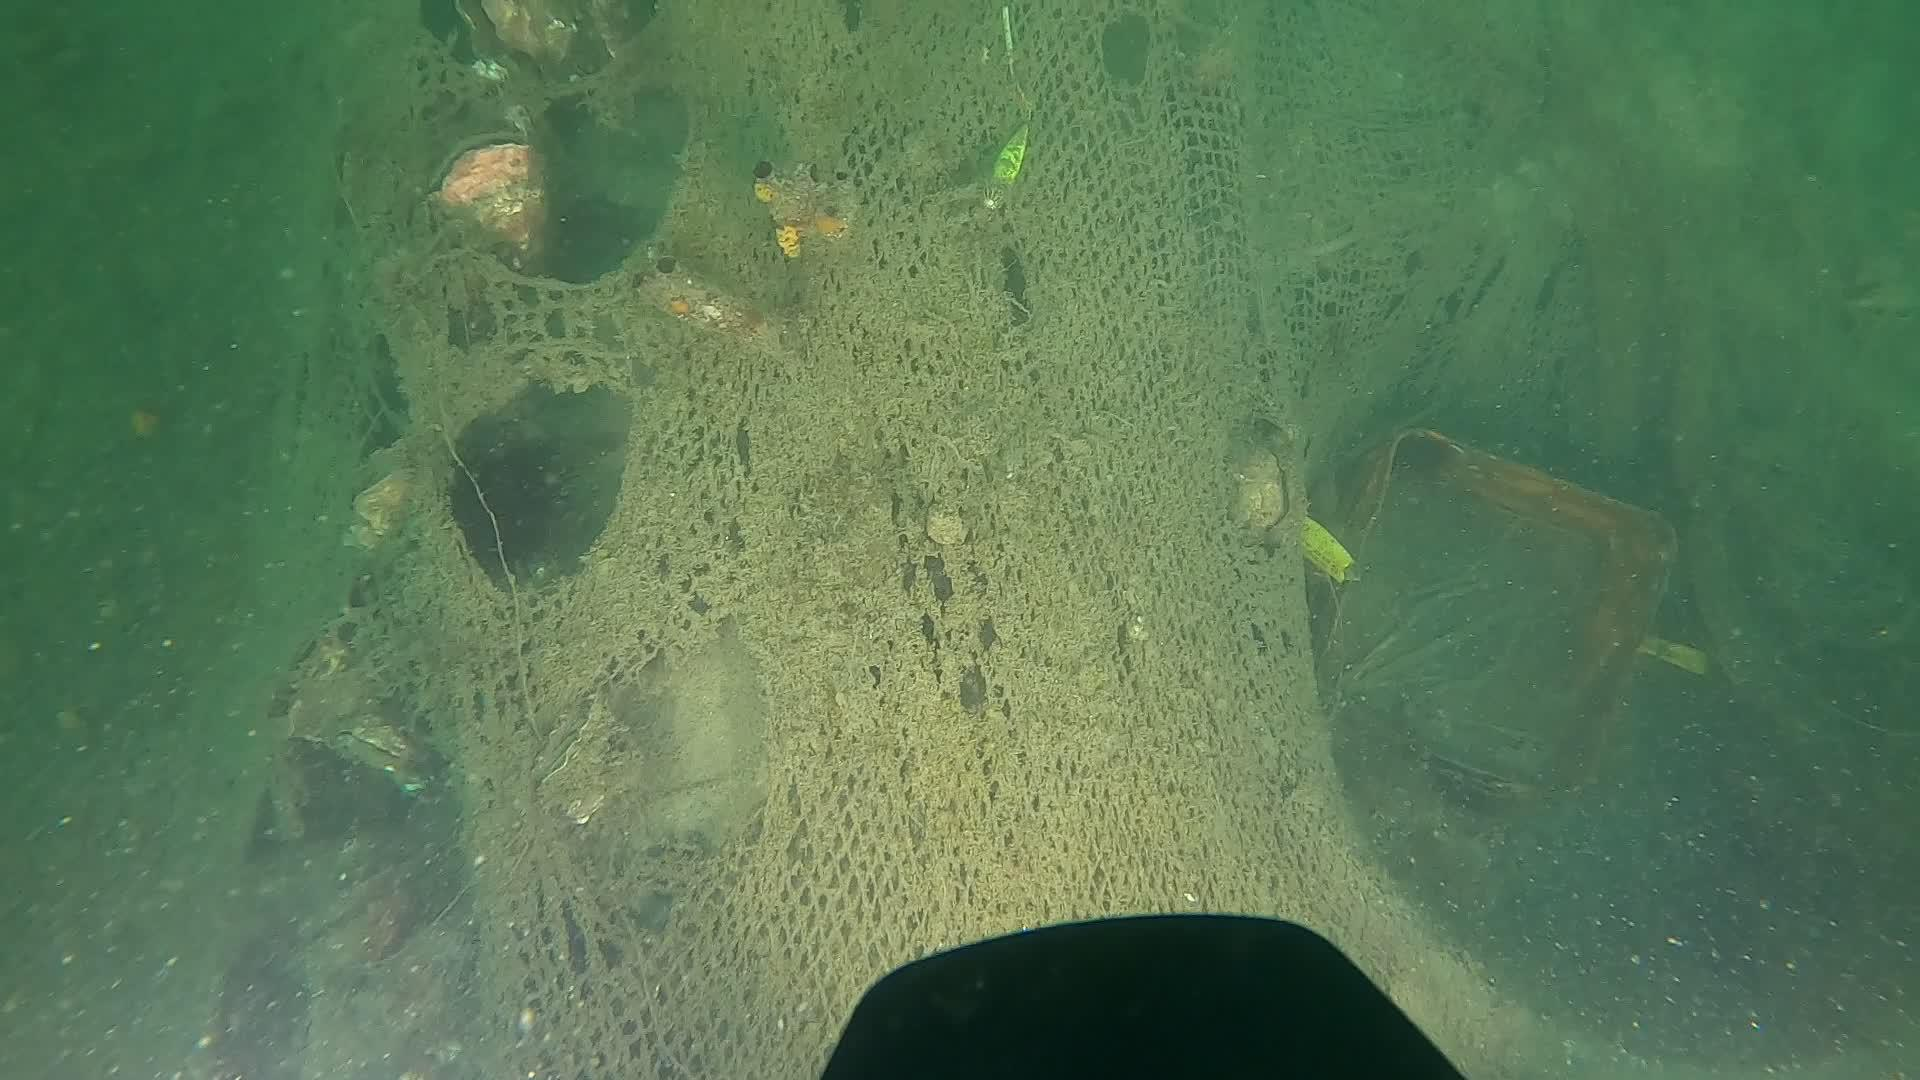fish net: (356, 3, 1400, 1080)
